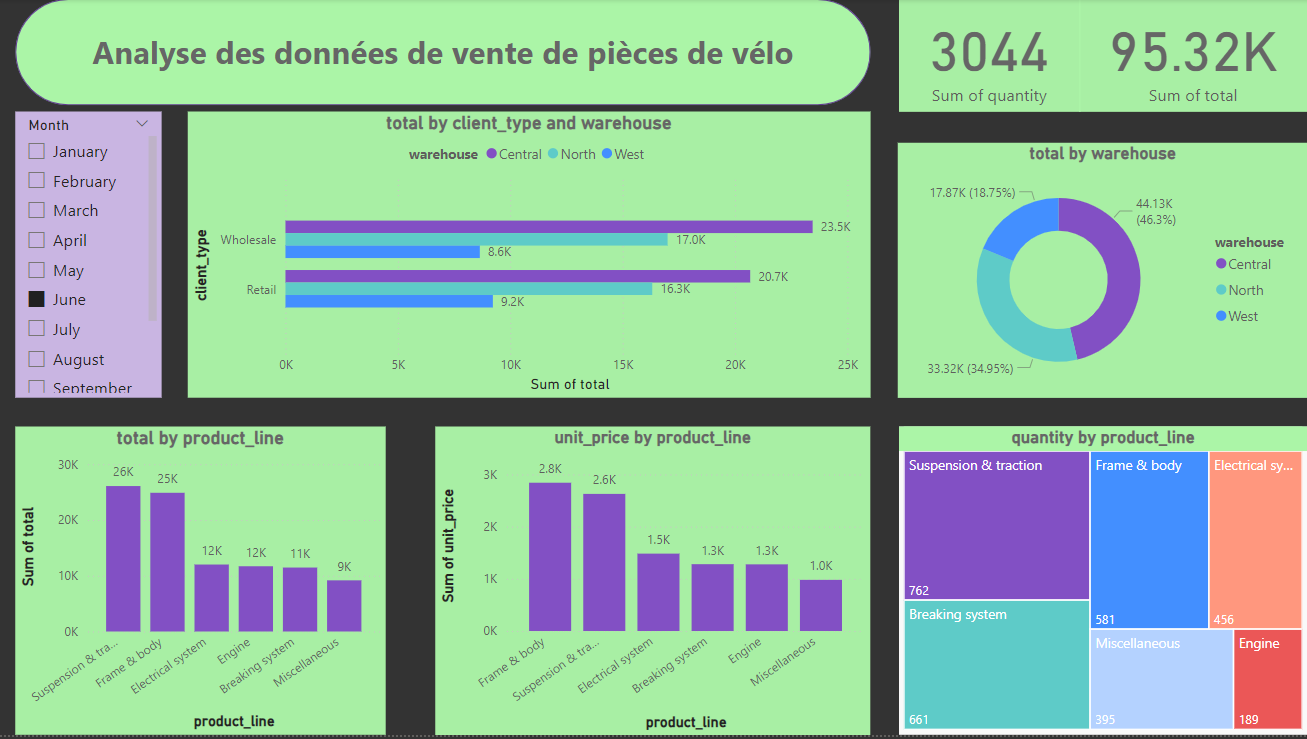

The page's visual inventory and layout, read from the dashboard file:
{"tool":"powerbi","page":{"name":"Page 1","canvas":[1280,720],"ordinal":0},"visuals":[{"type":"clusteredColumnChart","title":"total by product_line","fields":{"Category":["Sheet1.product_line"],"Y":["Sum(Sheet1.total)"]},"box":[15.9,418.4,362.1,301.5],"z":0},{"type":"card","fields":{"Values":["Sum(Sheet1.total)"]},"box":[1056.5,0,223.8,110.1],"z":1000},{"type":"card","fields":{"Values":["Sum(Sheet1.quantity)"]},"box":[880.4,0,177.3,110.1],"z":2000},{"type":"treemap","fields":{"Group":["Sheet1.product_line"],"Values":["Sum(Sheet1.quantity)"]},"box":[880.1,418.4,399.6,301.5],"z":3000},{"type":"clusteredColumnChart","title":"unit_price by product_line","fields":{"Category":["Sheet1.product_line"],"Y":["Sum(Sheet1.unit_price)"]},"box":[426.8,418.2,425.5,302],"z":4000},{"type":"slicer","fields":{"Values":["Sheet1.date.Variation.Date Hierarchy.Month"]},"box":[15.9,110.1,143.1,280],"z":5000},{"type":"donutChart","title":"total by warehouse","fields":{"Category":["Sheet1.warehouse"],"Y":["Sum(Sheet1.total)"]},"box":[879.2,140.6,401.1,249.5],"z":6000},{"type":"clusteredBarChart","title":"total by client_type and warehouse","fields":{"Category":["Sheet1.client_type"],"Y":["Sum(Sheet1.total)"],"Series":["Sheet1.warehouse"]},"box":[184.6,110.1,667.7,280],"z":7000},{"type":"shape","box":[15.9,0,836.8,103.9],"z":8000}]}

Visuals, with their boxes in screenshot pixels (x1, y1, x2, y2), scaled from the page's 1280x720 canvas onto the 1307x739 screenshot:
"total by product_line" clusteredColumnChart: bbox=(16, 429, 386, 738)
card - Sum(Sheet1.total): bbox=(1079, 0, 1306, 113)
card - Sum(Sheet1.quantity): bbox=(899, 0, 1080, 113)
treemap - Sheet1.product_line x Sum(Sheet1.quantity): bbox=(899, 429, 1306, 738)
"unit_price by product_line" clusteredColumnChart: bbox=(436, 429, 870, 738)
slicer - Sheet1.date.Variation.Date Hierarchy.Month: bbox=(16, 113, 162, 400)
"total by warehouse" donutChart: bbox=(898, 144, 1306, 400)
"total by client_type and warehouse" clusteredBarChart: bbox=(188, 113, 870, 400)
shape: bbox=(16, 0, 871, 107)
